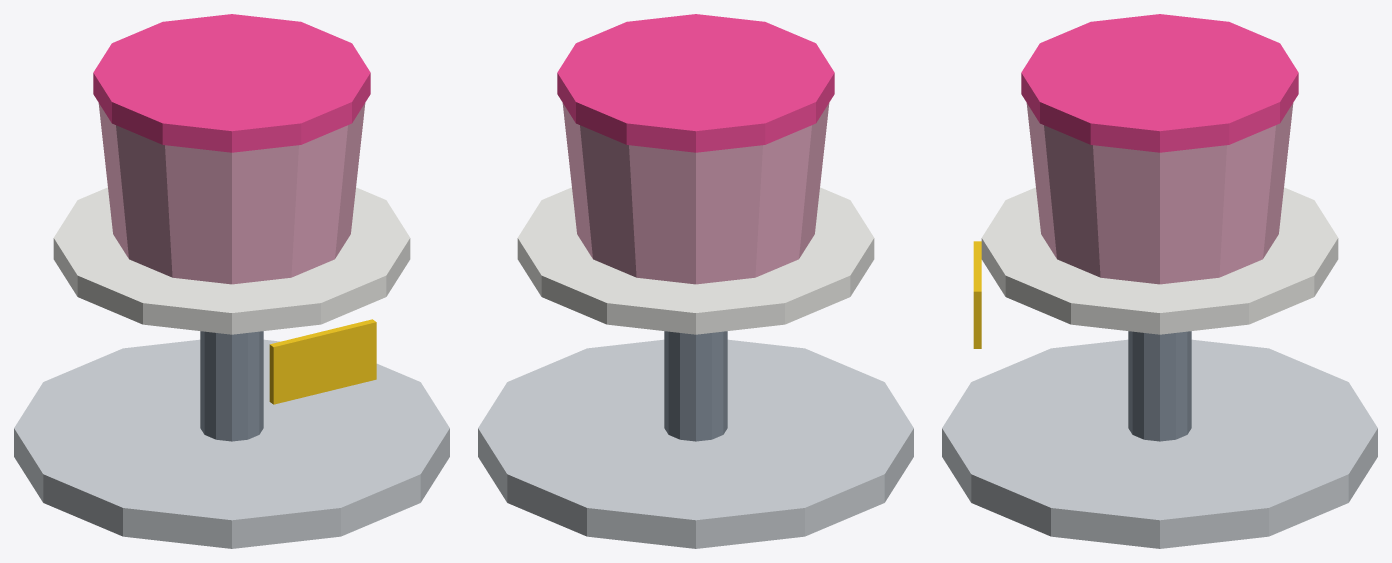
The model's file is item-ice_cream.glb.
The picture shows the model from 3 angles, left to right: view 1: azimuth 30°, elevation 25°; view 2: azimuth 150°, elevation 25°; view 3: azimuth 270°, elevation 25°; orthographic projection.
Visible parts, largest first — view 1: item-ice_cream; view 2: item-ice_cream; view 3: item-ice_cream.
Part boxes in pixels (bbox=[...]): item-ice_cream: bbox=[14, 14, 449, 548]; item-ice_cream: bbox=[478, 14, 913, 548]; item-ice_cream: bbox=[942, 14, 1377, 548].
Bounding box in the file's own units: 1.1 × 1.07 × 1.1.
